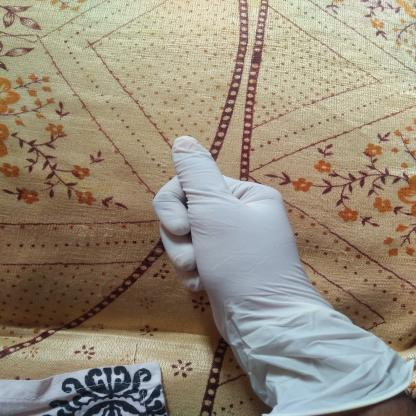gloved_hand: (147, 135, 413, 416)
